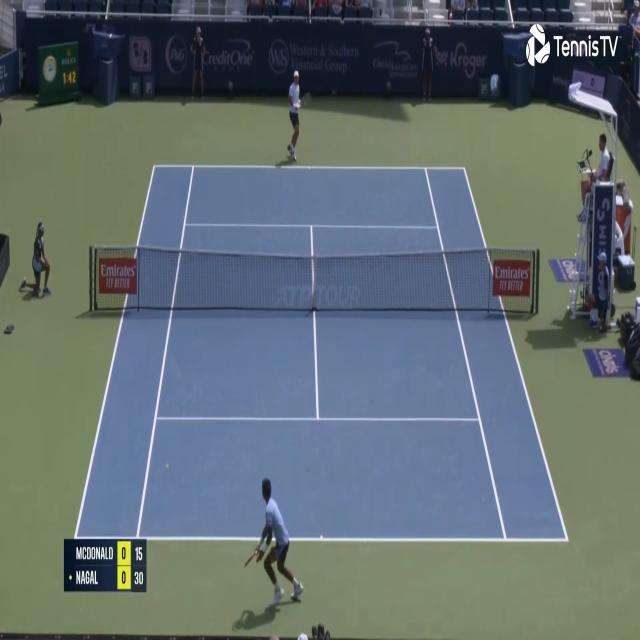tennis-player: (242, 473, 306, 611), (286, 62, 310, 162)
